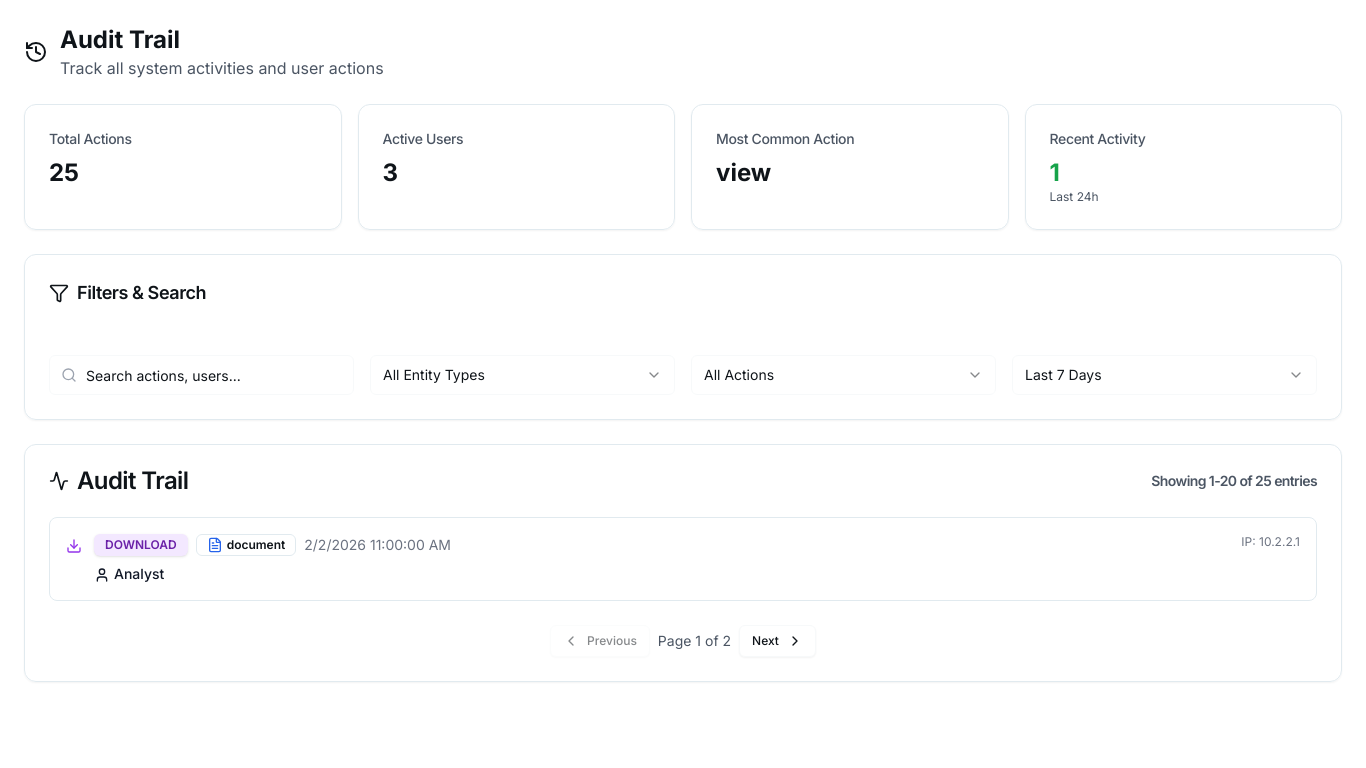
it: AuditTrail interactions › applies search filters and paginates through audit entries
Expected: the text "Page 1 of 2" is shown, [658,631,731,651]
Click the button "Next": (778,641) [739,625,816,657]
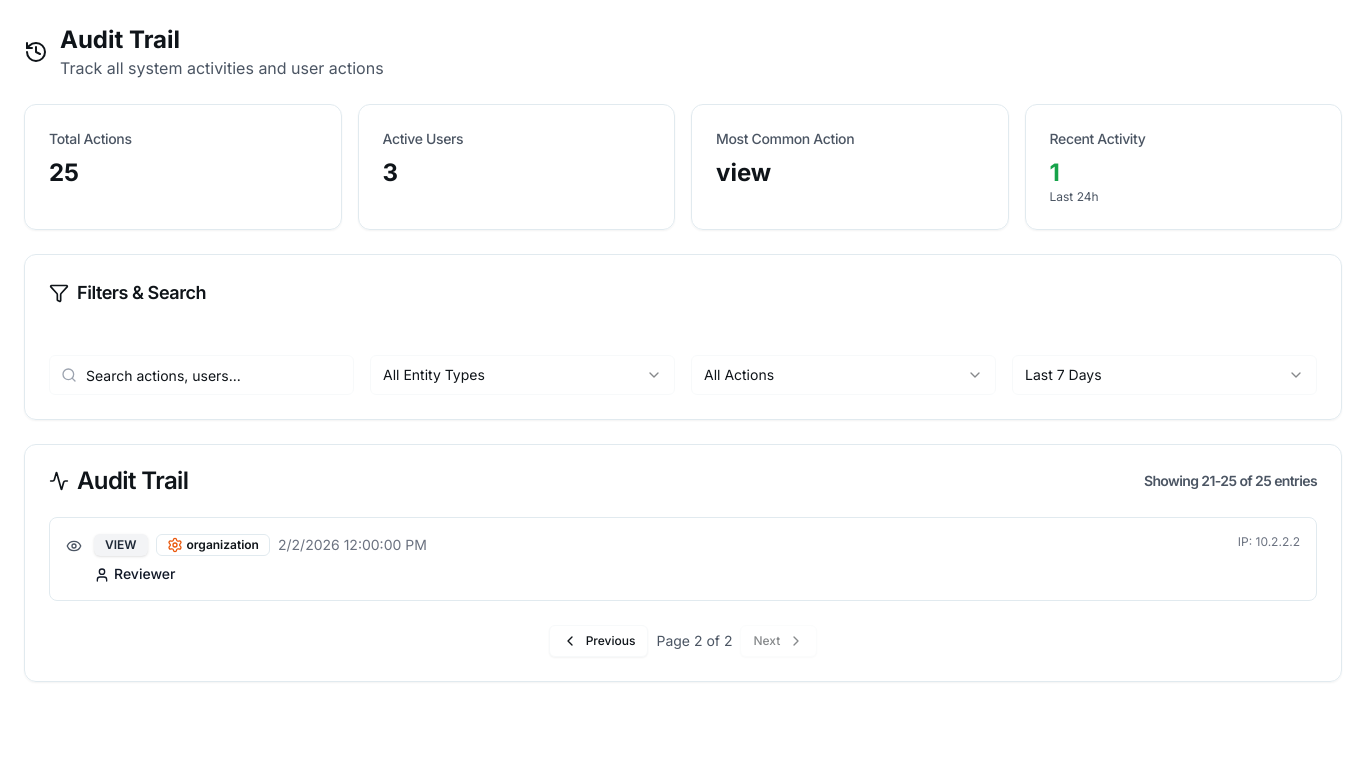
Expected: the text "Page 2 of 2" is shown, [656,631,732,651]
Click the button "Previous": (599,641) [549,625,648,657]
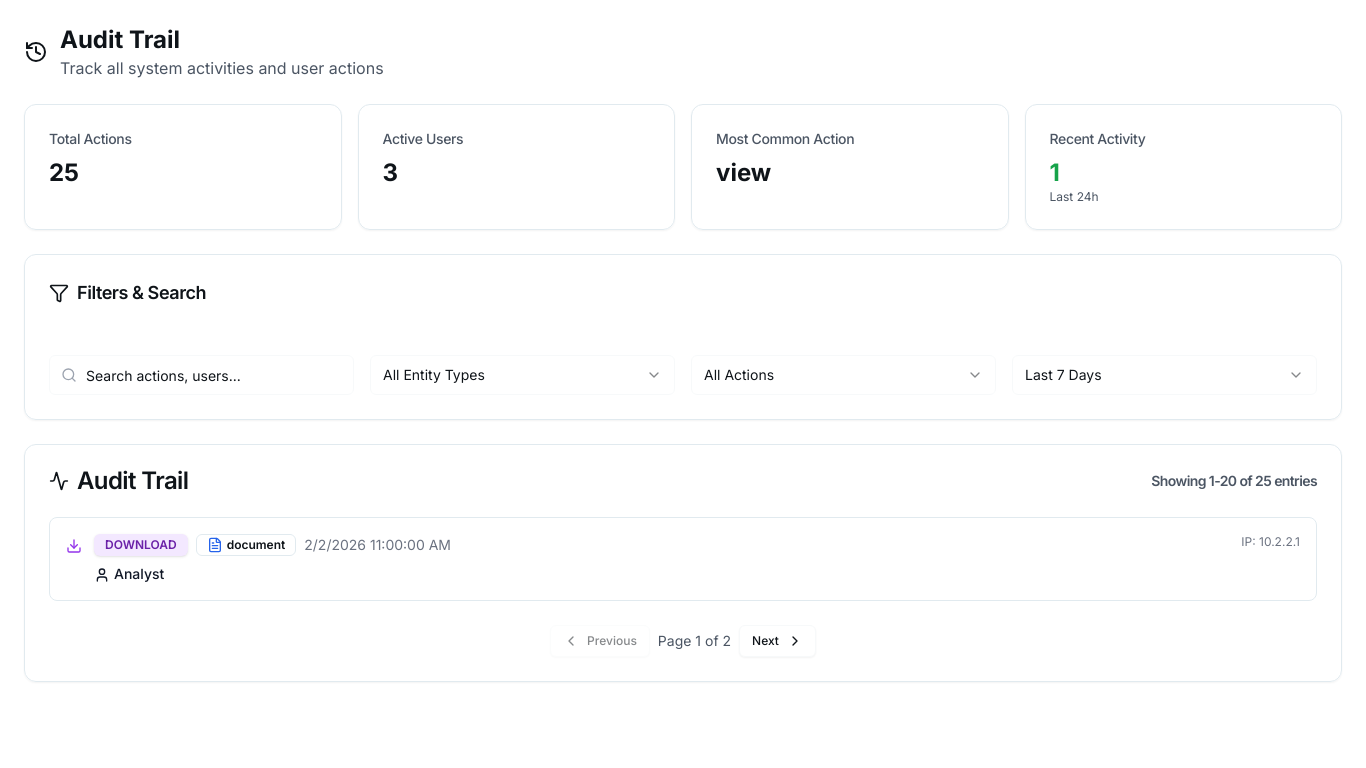
Expected: the text "Page 1 of 2" is shown, [658,631,731,651]
